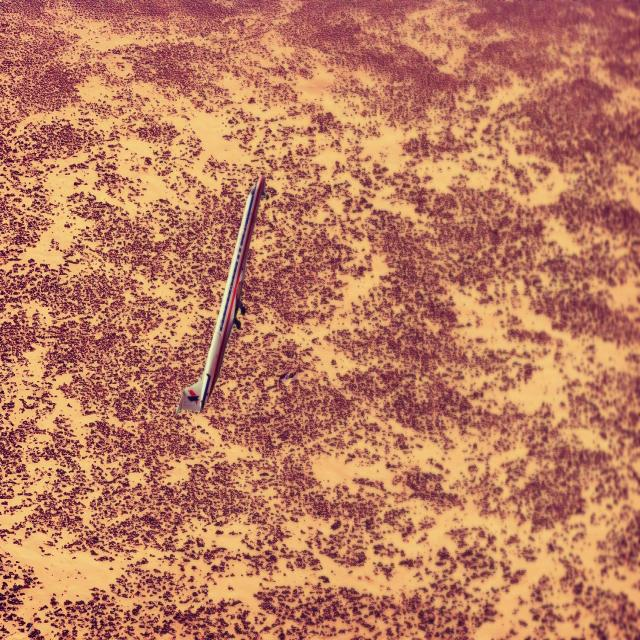airplane: (176, 174, 266, 417)
